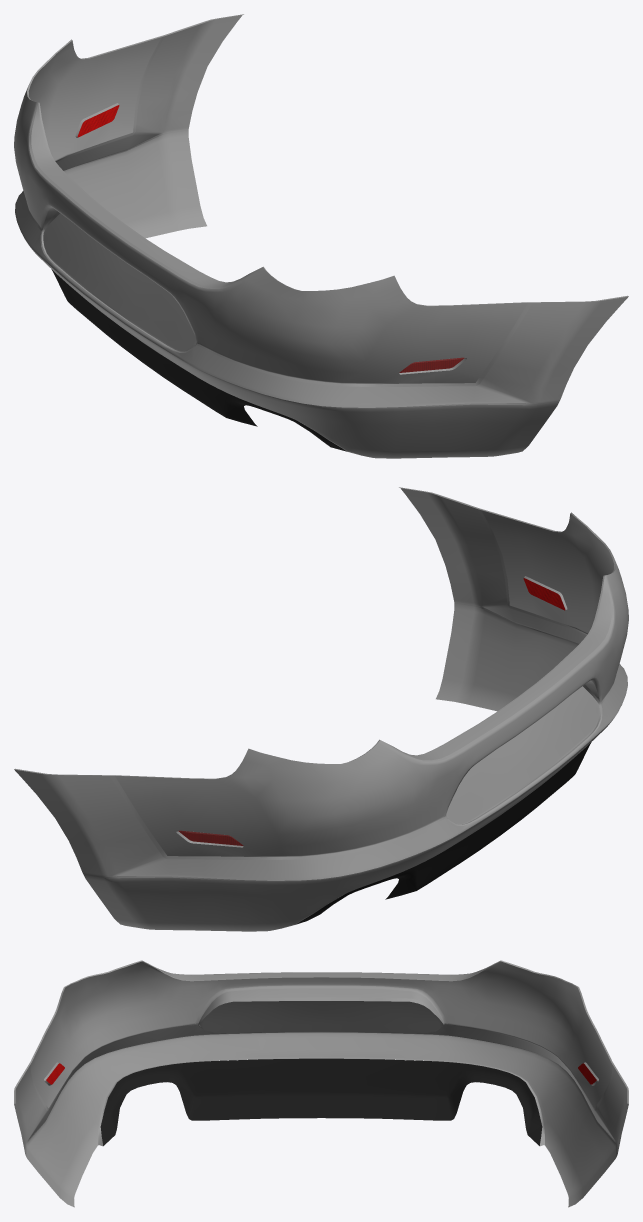
3 renders of one model, top to bottom at view 1: azimuth 30°, elevation 25°; view 2: azimuth 150°, elevation 25°; view 3: azimuth 270°, elevation 25°, orthographic. The views are drawn at different scales.
Parts seen in each view (by area): view 1: _6139_18_561G_C_1_DaS__6139_18_561G_C, _6139_18_561G_C_1_DaS__6139_18_561G_C_E, _6139_18_561G_C__6139_18_561G_C_6_D; view 2: _6139_18_561G_C_1_DaS__6139_18_561G_C, _6139_18_561G_C_1_DaS__6139_18_561G_C_E, _6139_18_561G_C__6139_18_561G_C_6_D; view 3: _6139_18_561G_C_1_DaS__6139_18_561G_C, _6139_18_561G_C__6139_18_561G_C_6_D, _6139_18_561G_C_1_DaS__6139_18_561G_C_E.
Part boxes in pixels (x1,y1,x2,y2): _6139_18_561G_C_1_DaS__6139_18_561G_C: [14, 15, 628, 458]; _6139_18_561G_C_1_DaS__6139_18_561G_C_E: [21, 14, 628, 454]; _6139_18_561G_C__6139_18_561G_C_6_D: [51, 269, 346, 451]; _6139_18_561G_C_1_DaS__6139_18_561G_C: [14, 488, 628, 931]; _6139_18_561G_C_1_DaS__6139_18_561G_C_E: [14, 487, 621, 927]; _6139_18_561G_C__6139_18_561G_C_6_D: [296, 742, 591, 924]; _6139_18_561G_C_1_DaS__6139_18_561G_C: [14, 961, 628, 1207]; _6139_18_561G_C__6139_18_561G_C_6_D: [100, 1058, 542, 1145]; _6139_18_561G_C_1_DaS__6139_18_561G_C_E: [14, 960, 628, 1154].
Size of the model in its own units: 89.68 by 55.06 by 180.
